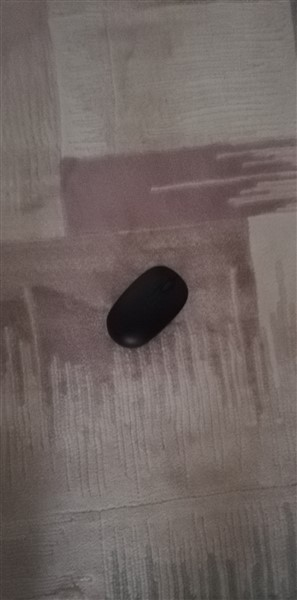mouse: (102, 257, 193, 356)
